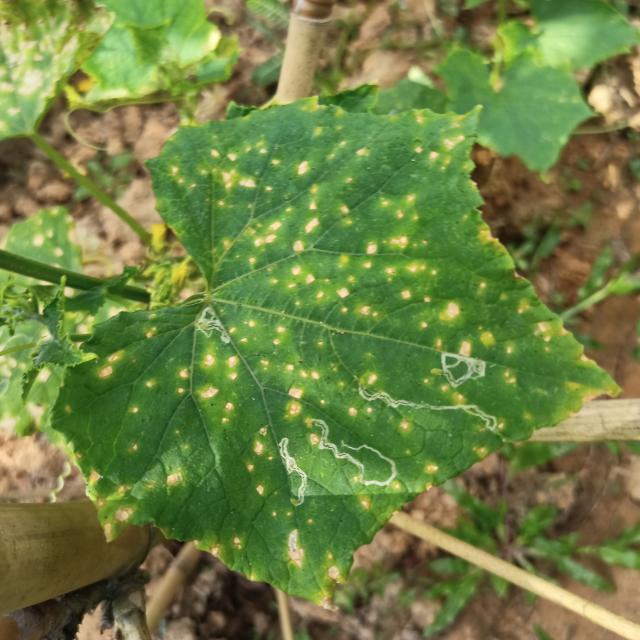disease_cucumber: (167, 124, 560, 362), (79, 452, 188, 544), (130, 352, 239, 432), (284, 528, 346, 613), (253, 356, 319, 419), (244, 424, 278, 515), (347, 406, 415, 432), (192, 532, 246, 558), (422, 378, 470, 405), (94, 347, 122, 389)
